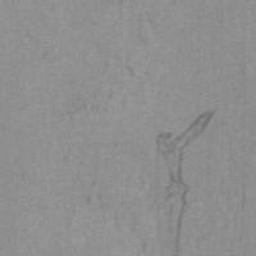Water spot: (76, 108, 218, 256)
